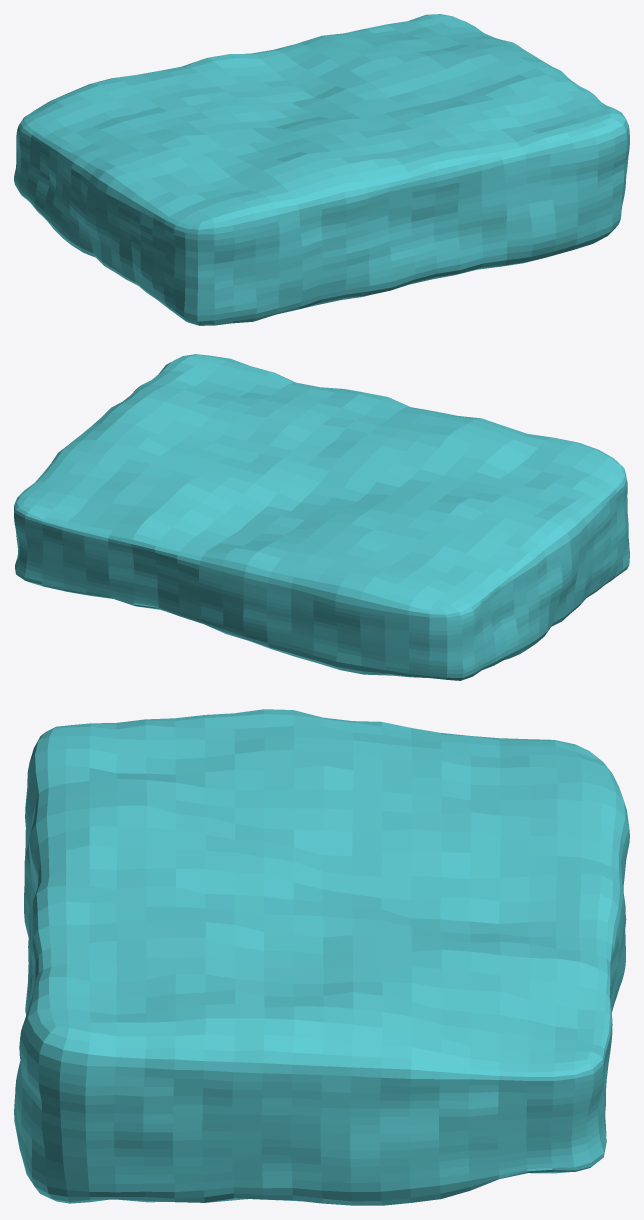
The picture shows the model from 3 angles, top to bottom: view 1: azimuth 30°, elevation 25°; view 2: azimuth 150°, elevation 25°; view 3: azimuth 270°, elevation 25°; orthographic projection. The views are drawn at different scales.
Parts seen in each view (by area): view 1: Pillow; view 2: Pillow; view 3: Pillow.
Part boxes in pixels (box(x1,y1,x2,y2)): Pillow: box(14, 14, 629, 325); Pillow: box(14, 354, 629, 680); Pillow: box(14, 709, 629, 1205).
Bounding box in the file's own units: 1.13 × 0.3123 × 0.8336.
